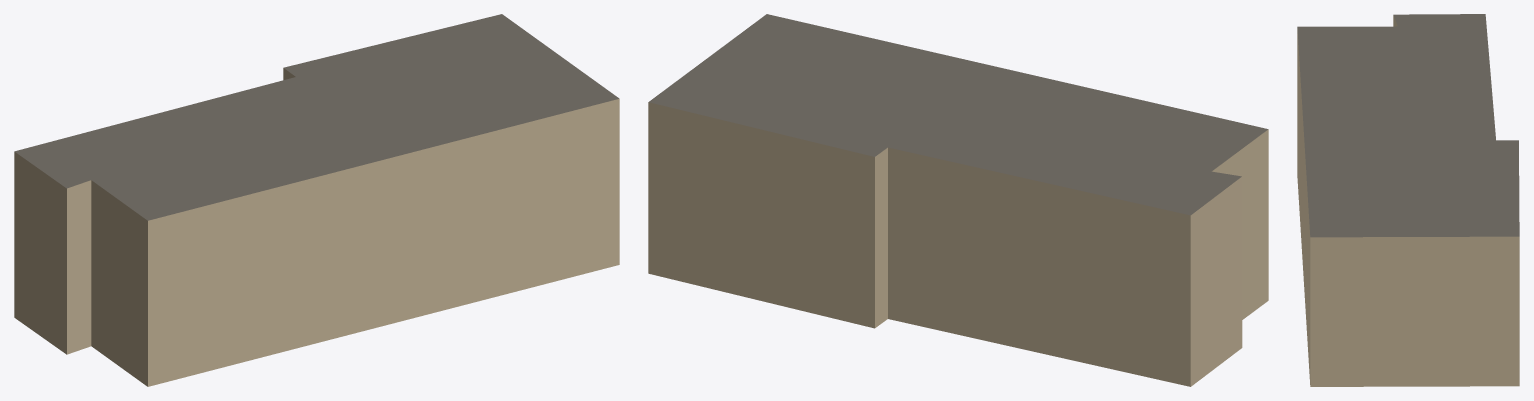
3 renders of one model, left to right at view 1: azimuth 30°, elevation 25°; view 2: azimuth 150°, elevation 25°; view 3: azimuth 270°, elevation 25°, orthographic. The views are drawn at different scales.
Parts seen in each view (by area): view 1: HP-w1510928793; view 2: HP-w1510928793; view 3: HP-w1510928793.
Part boxes in pixels (<box>): HP-w1510928793: <box>14,14,619,386</box>; HP-w1510928793: <box>648,14,1268,386</box>; HP-w1510928793: <box>1297,14,1519,386</box>.
Bounding box in the file's own units: 42.24 × 13.2 × 17.76.
